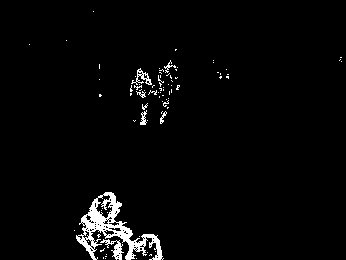person: (77, 192, 132, 260), (154, 61, 181, 124), (129, 69, 156, 125)
